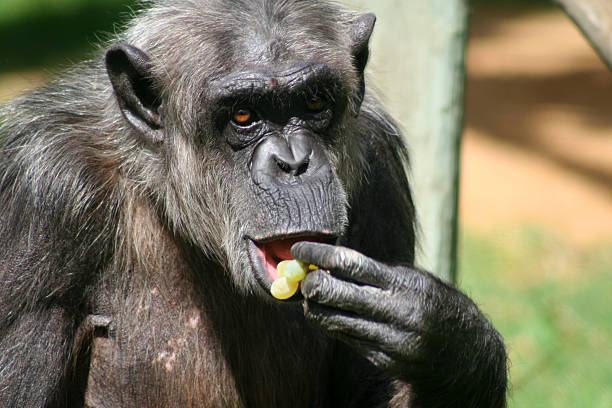chimpanzee: (84, 2, 394, 326)
